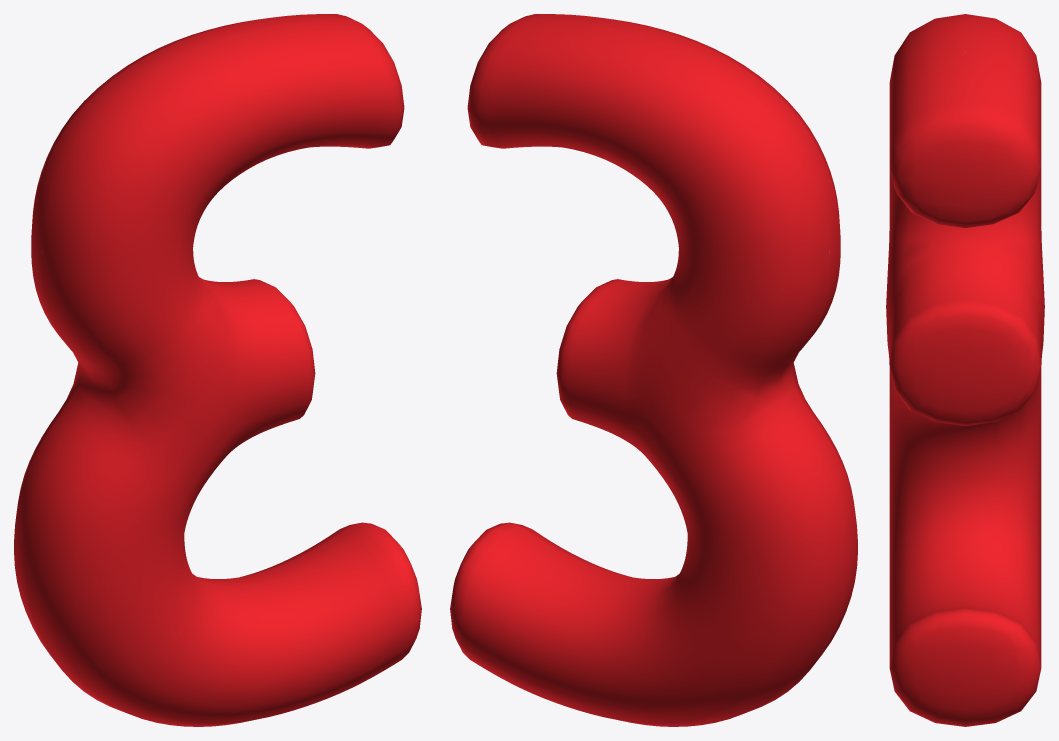
File: numero-3.glb
The picture shows the model from 3 angles, left to right: view 1: azimuth 30°, elevation 25°; view 2: azimuth 150°, elevation 25°; view 3: azimuth 270°, elevation 25°; orthographic projection. The views are drawn at different scales.
Parts seen in each view (by area): view 1: node_id30; view 2: node_id30; view 3: node_id30.
Boxes of the visible parts, x1,y1,x2,y2 form: node_id30: [14, 14, 421, 726]; node_id30: [450, 14, 857, 726]; node_id30: [886, 14, 1044, 726].
Size of the model in its own units: 0.2946 by 0.512 by 0.1139.
1 material, 1 textured.
